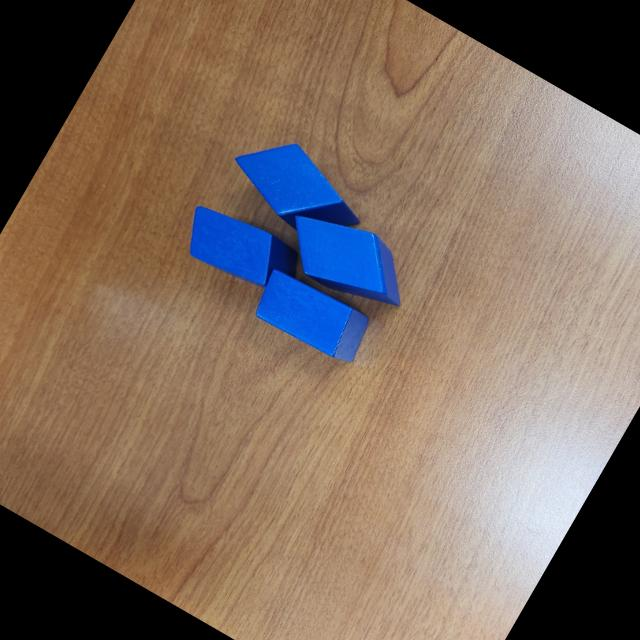blue: (214, 119, 380, 258), (272, 195, 426, 326), (174, 194, 309, 307), (246, 262, 377, 372)
